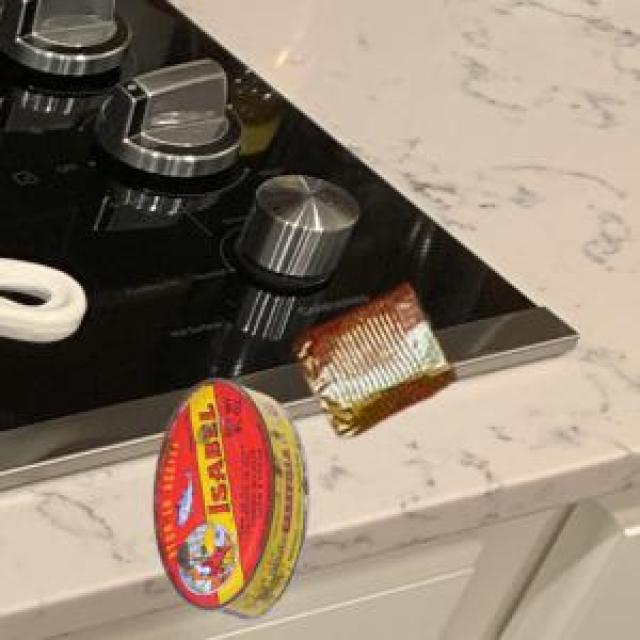logam: (150, 374, 306, 618), (291, 281, 451, 434)
